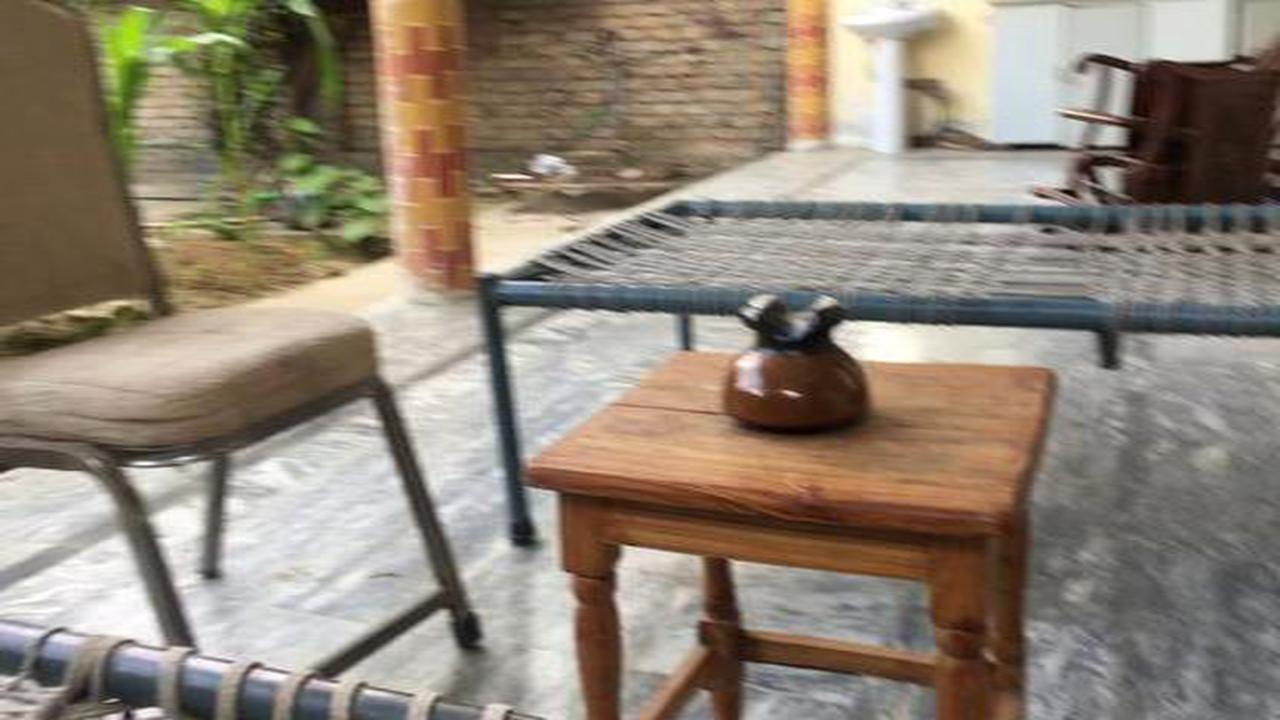insulator_pin: (711, 272, 896, 445)
